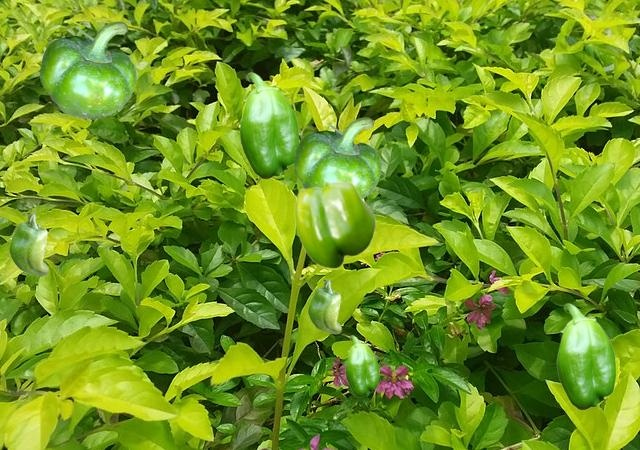bell_pepper: (40, 21, 135, 118), (294, 180, 375, 268), (294, 117, 380, 198), (556, 303, 615, 409), (239, 72, 298, 178), (9, 213, 47, 274), (345, 335, 378, 396), (308, 280, 340, 332)
